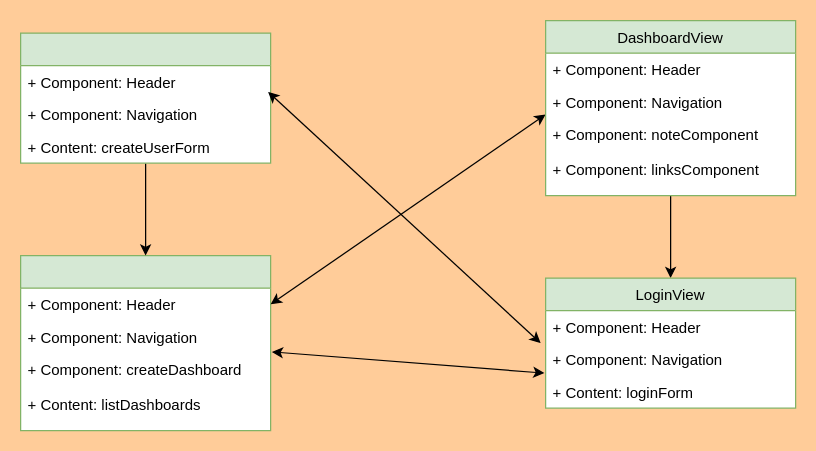
The diagram is 816 pixels wide and 451 high, and some of its shapes have lost their labels. Here are the shapes that lost their labels. From the top down, the box of each, then its label:
(19, 32, 271, 163): CreateUserView
(19, 254, 271, 431): DashboardsView/Home
